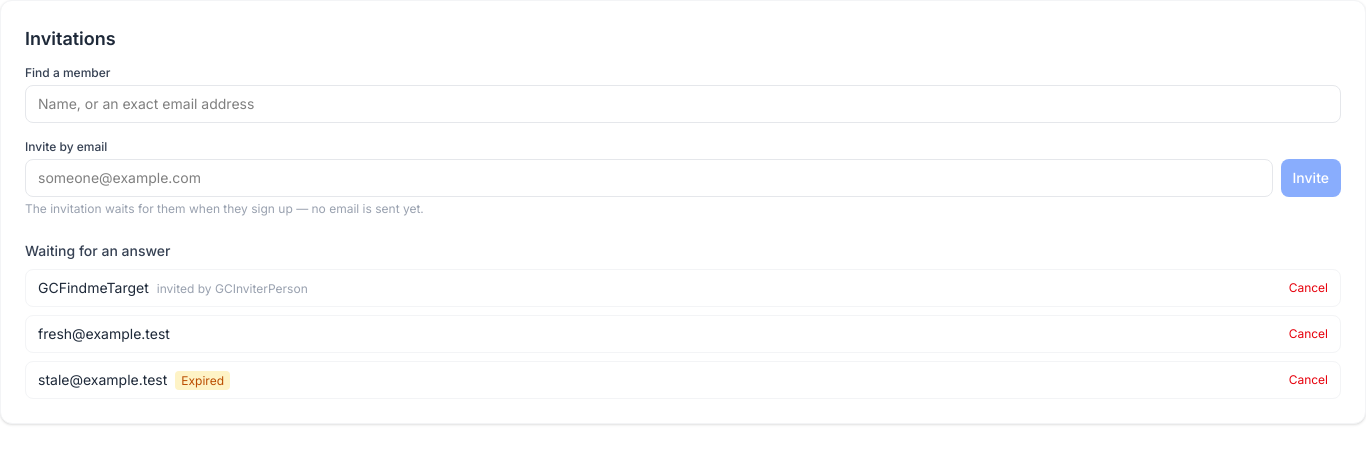
FEAT-H015 — InvitationsPanel (STORY-1/2/3) › a refusal surfaces in place and the email input keeps its value
Type "dup@example.test" into the field with test id "invite-email-input" at (649, 178), box [25,159,1272,197]
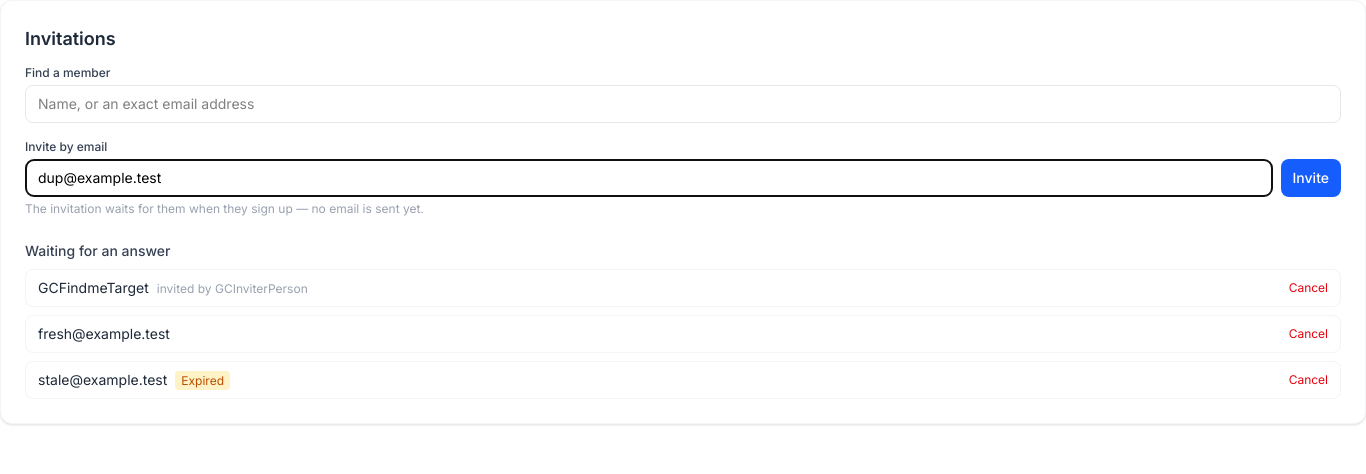
Click the button with test id "invite-email-button" at (1311, 178), box [1280,159,1341,197]
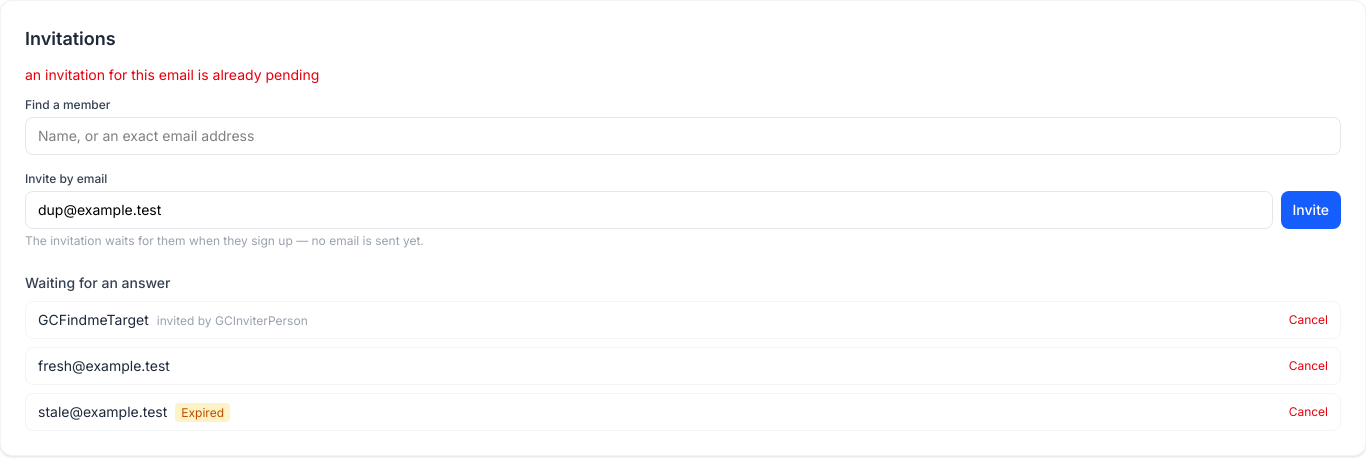
expect the text "an invitation for this email is already pending" is shown: met, box [25,66,319,83]
